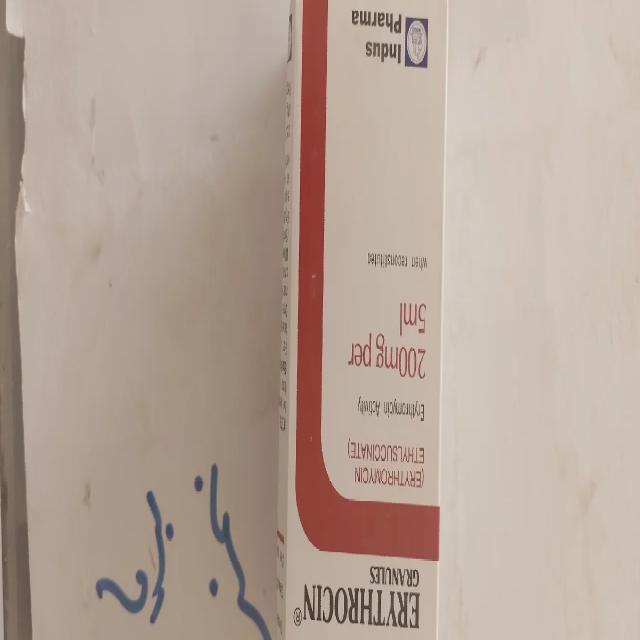drug-name: (302, 586, 422, 630)
